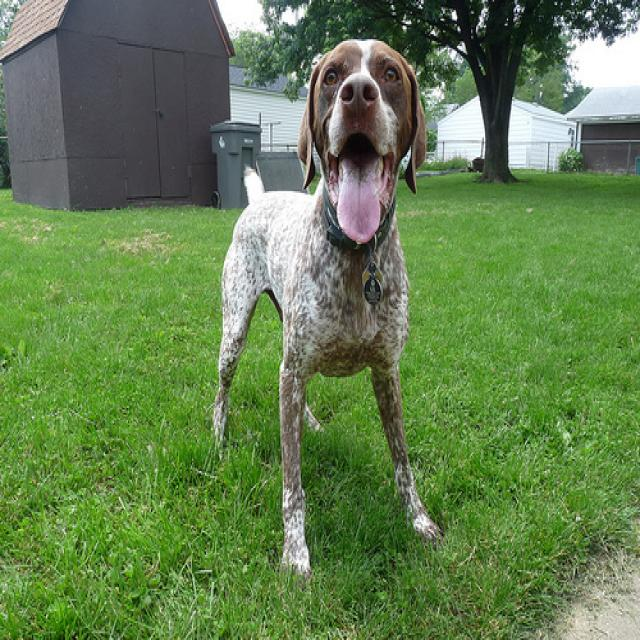dog-german_shorthaired: (207, 32, 451, 575)
